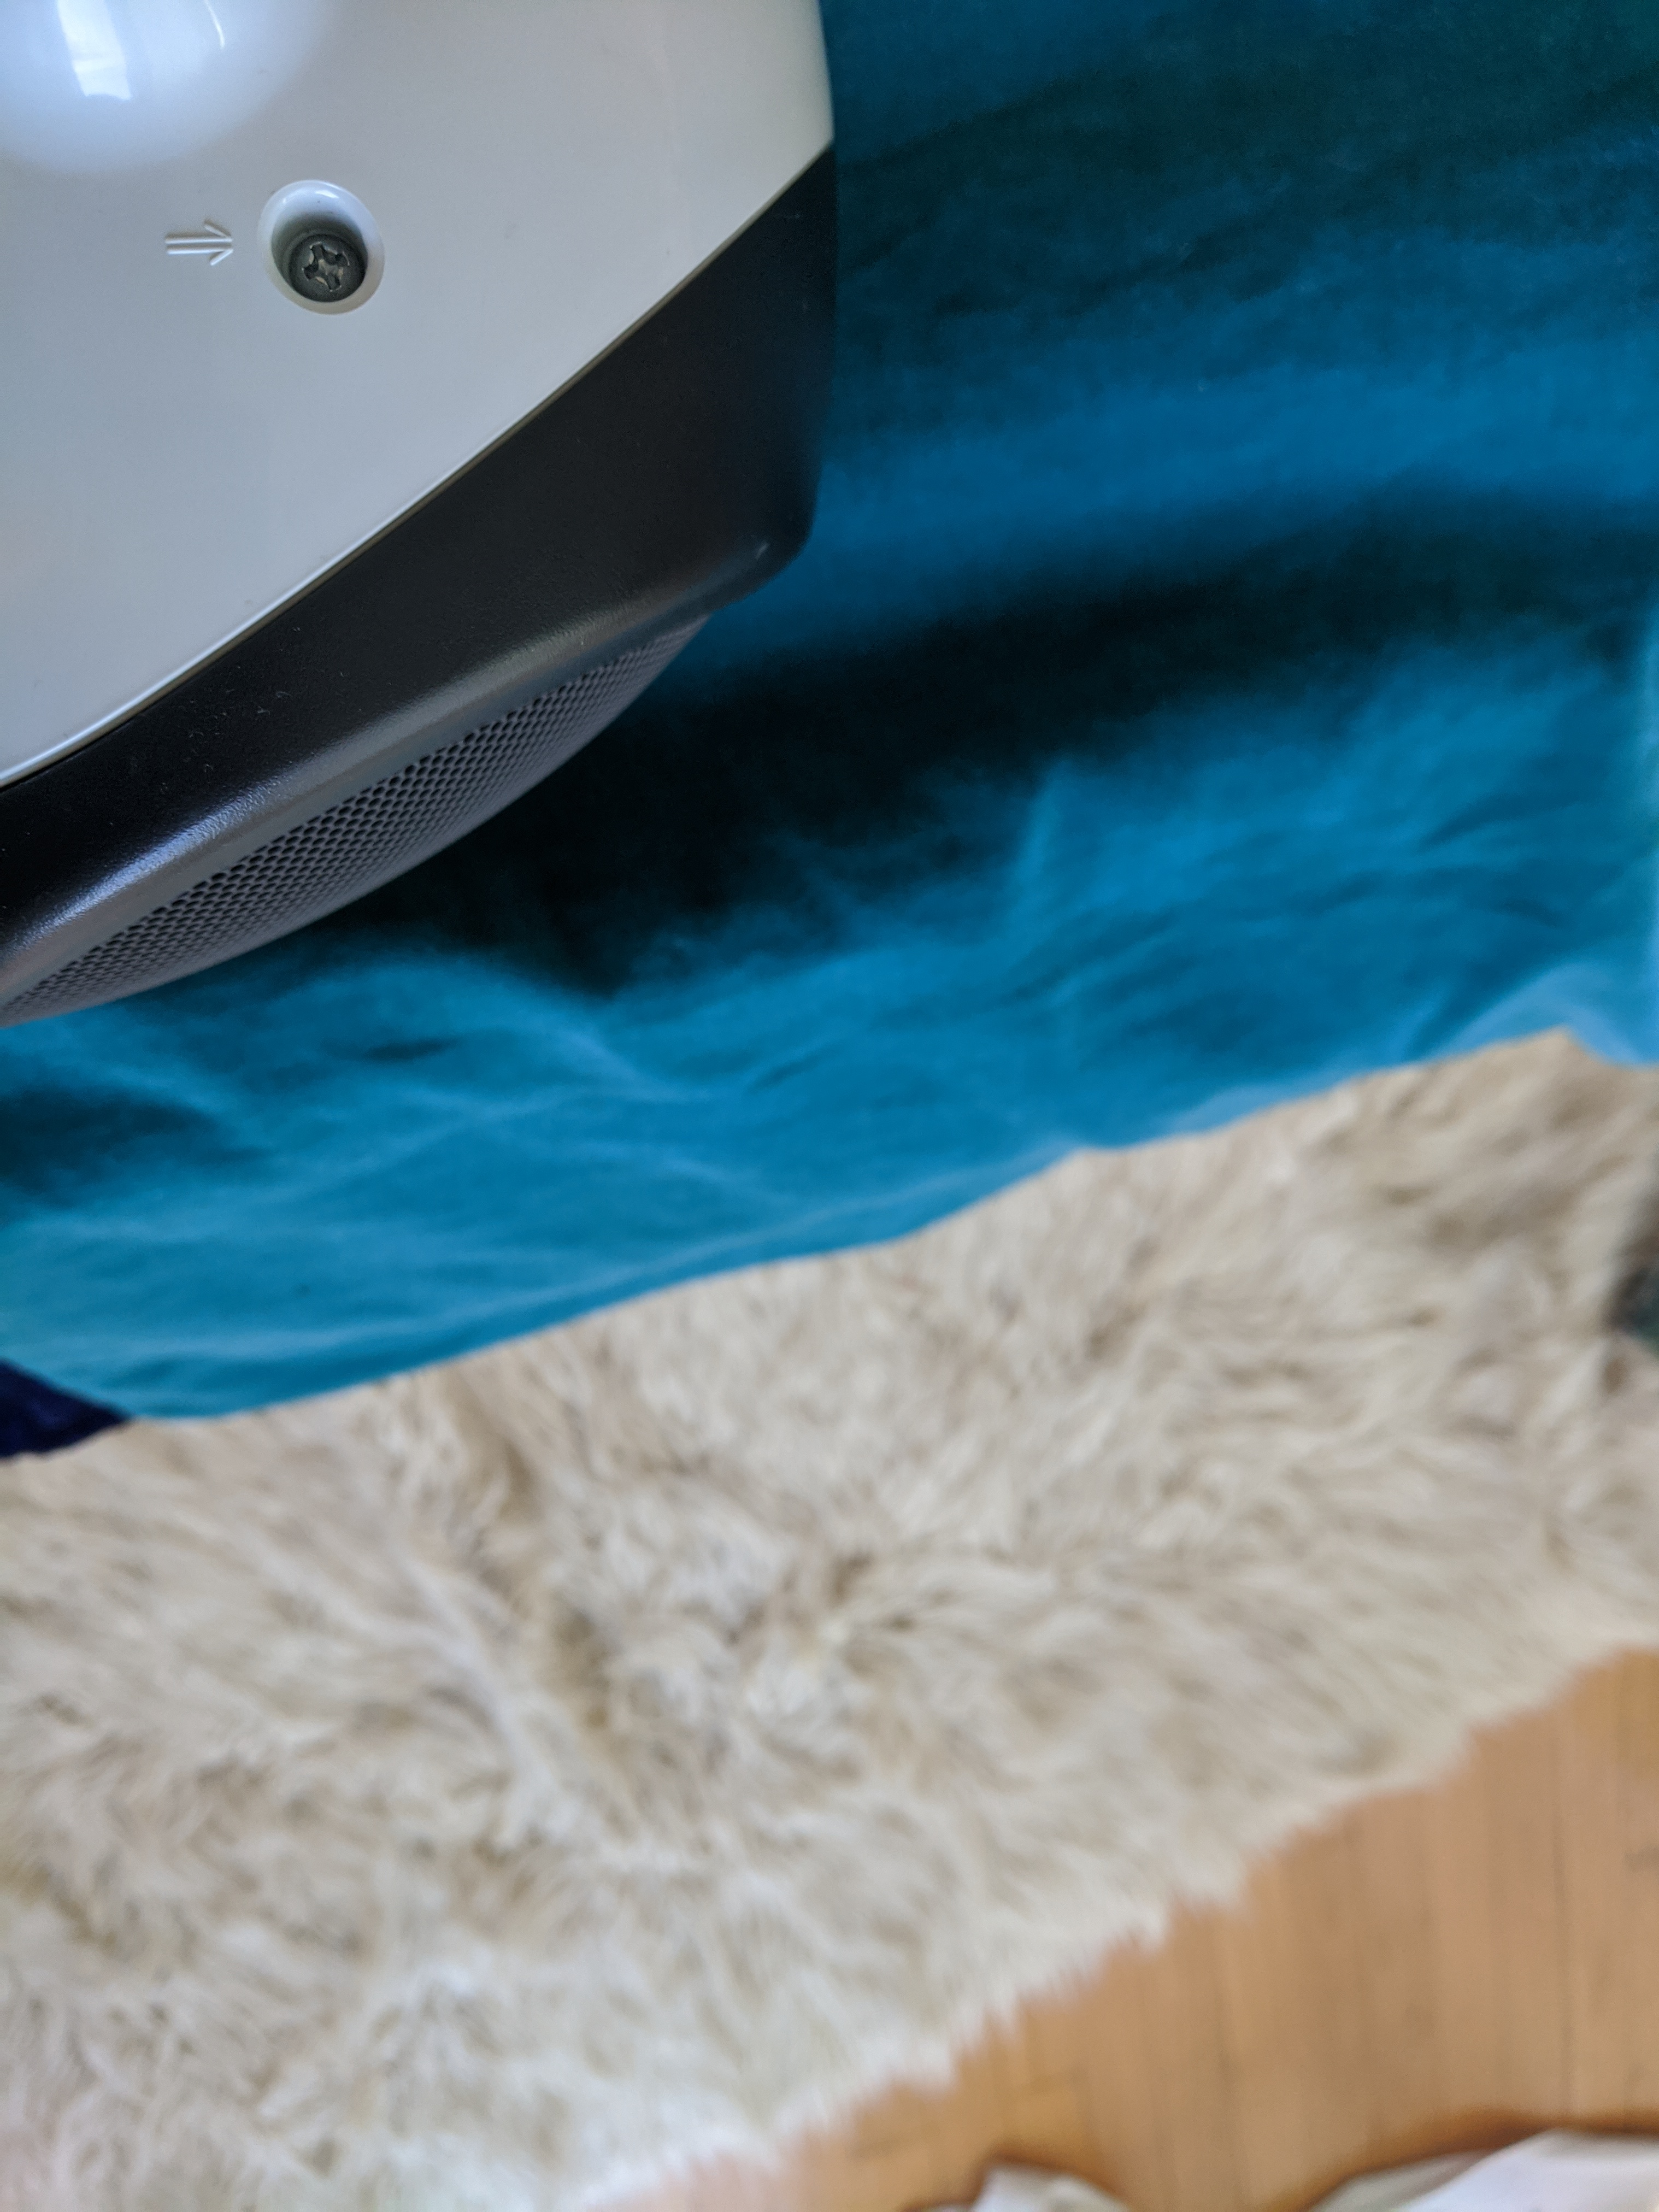cross_recessed_screw: (261, 207, 373, 301)
